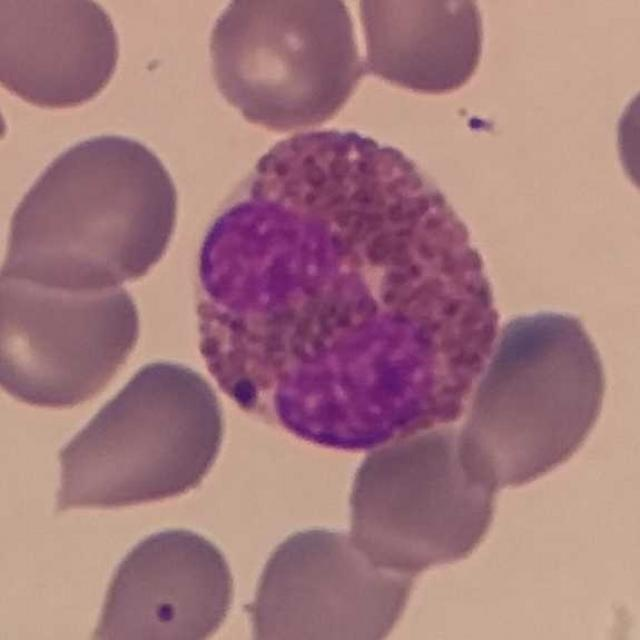Eosinophil: (171, 110, 510, 473)
RBC: (453, 302, 617, 494), (0, 126, 186, 294), (44, 353, 230, 519), (340, 419, 508, 573), (0, 248, 148, 413), (238, 517, 426, 640), (202, 1, 366, 134), (80, 518, 242, 640), (0, 0, 127, 114), (351, 0, 492, 99), (607, 65, 640, 217)
